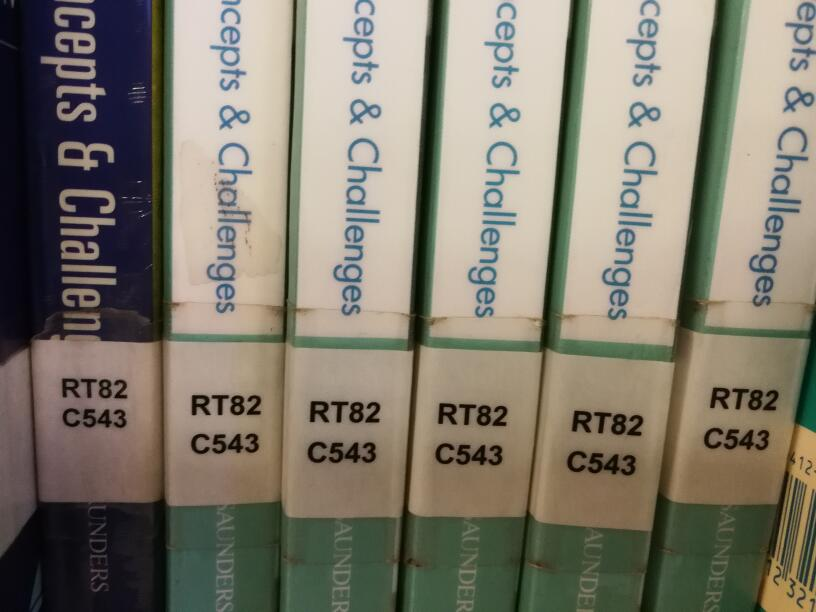booklabel: (563, 406, 645, 478), (700, 381, 781, 452), (303, 397, 382, 465), (433, 400, 509, 468), (187, 391, 265, 456), (58, 373, 132, 431)
